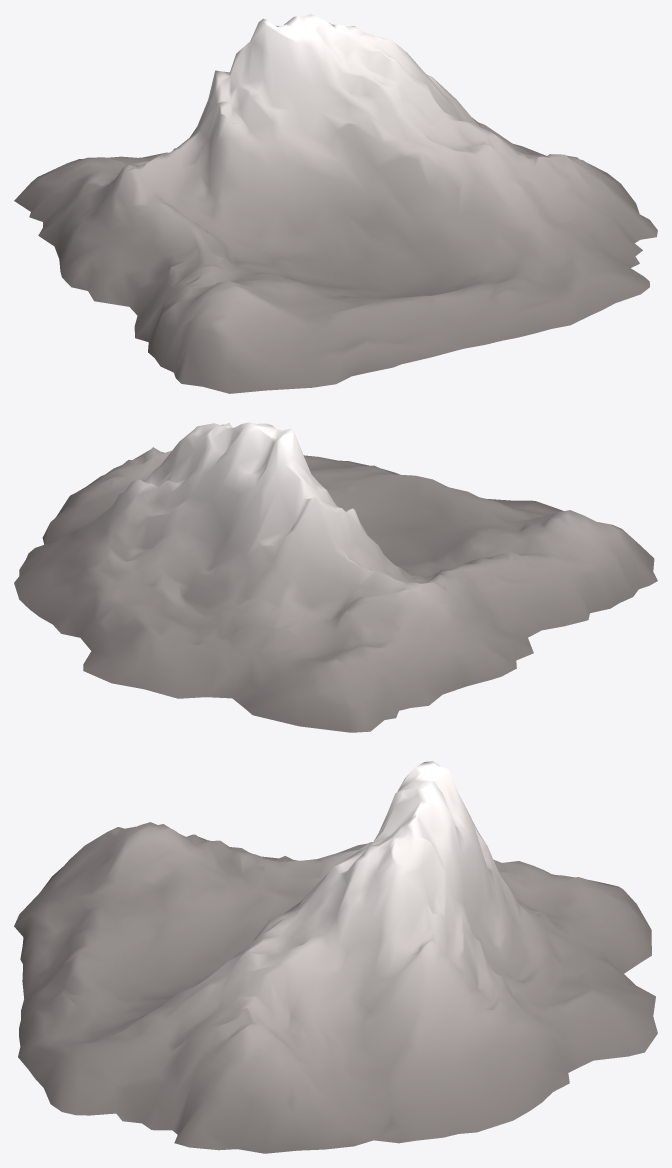
Rendered from Mountain_04.glb.
3 renders of one model, top to bottom at view 1: azimuth 30°, elevation 25°; view 2: azimuth 150°, elevation 25°; view 3: azimuth 270°, elevation 25°, orthographic. The views are drawn at different scales.
Visible parts, largest first — view 1: Mountain_04; view 2: Mountain_04; view 3: Mountain_04.
Boxes of the visible parts, x1=… form: Mountain_04: x1=14, y1=14, x2=657, y2=393; Mountain_04: x1=14, y1=422, x2=657, y2=732; Mountain_04: x1=14, y1=761, x2=657, y2=1153.
Bounding box in the file's own units: 44.8 × 16.27 × 41.85.
Materials: 1 (1 with a texture image).
